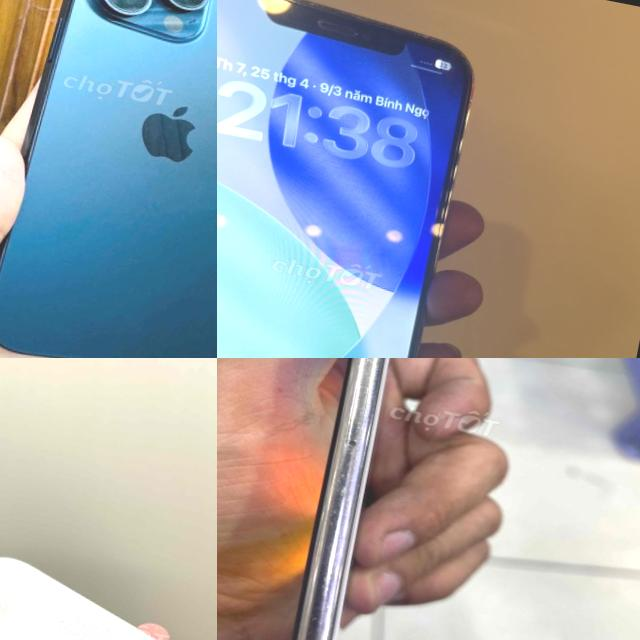scratch: (292, 358, 388, 640), (262, 0, 478, 67)
